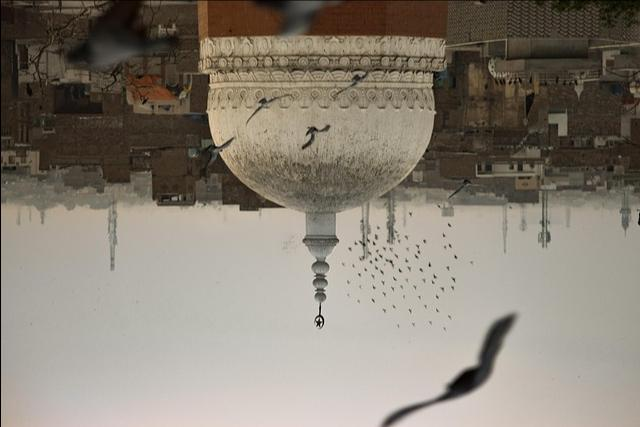Non_Gorille: (70, 0, 578, 427)
